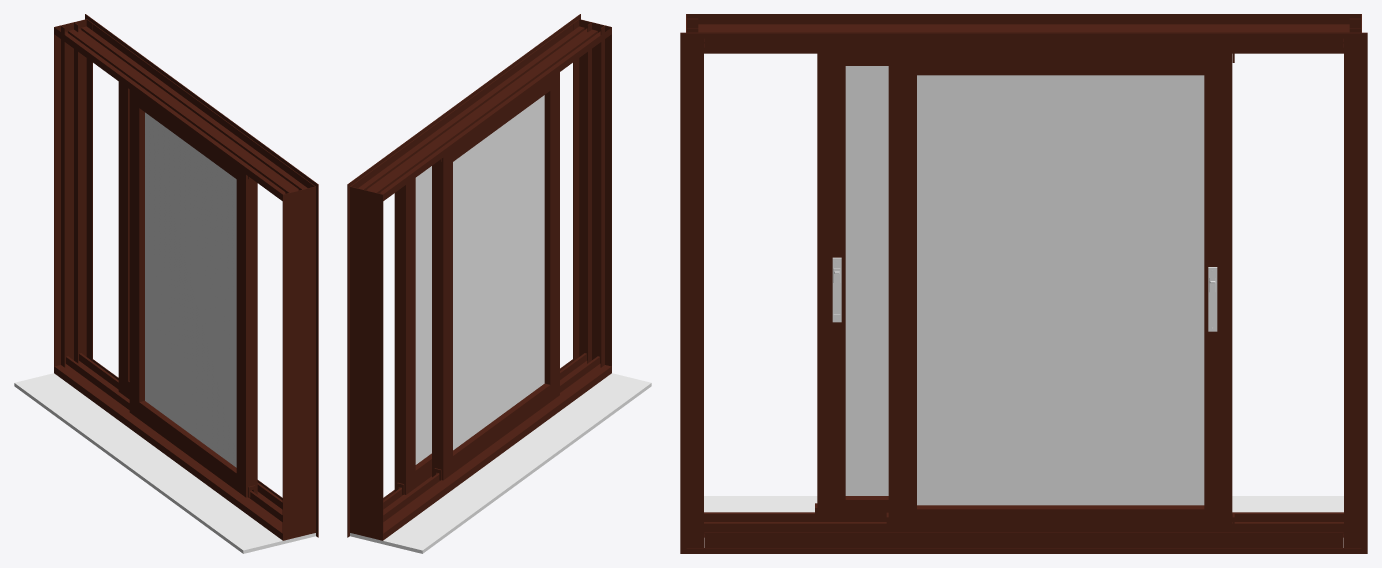
File: window_active.glb
3 renders of one model, left to right at view 1: azimuth 30°, elevation 25°; view 2: azimuth 150°, elevation 25°; view 3: azimuth 270°, elevation 25°, orthographic. The views are drawn at different scales.
Visible parts, largest first — view 1: window_active; view 2: window_active; view 3: window_active.
Part boxes in pixels (x1,y1,x2,y2): window_active: (14,14,318,553); window_active: (347,14,651,553); window_active: (680,14,1367,553).
Size of the model in its own units: 0.498 by 2.29 by 2.74.
